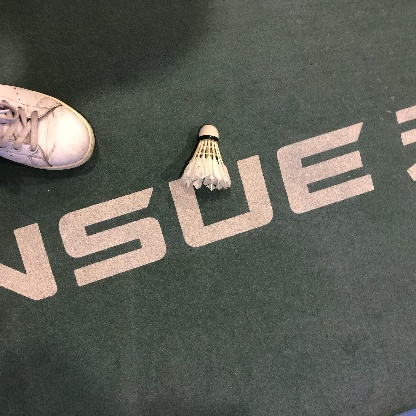ball_single: (181, 125, 231, 191)
